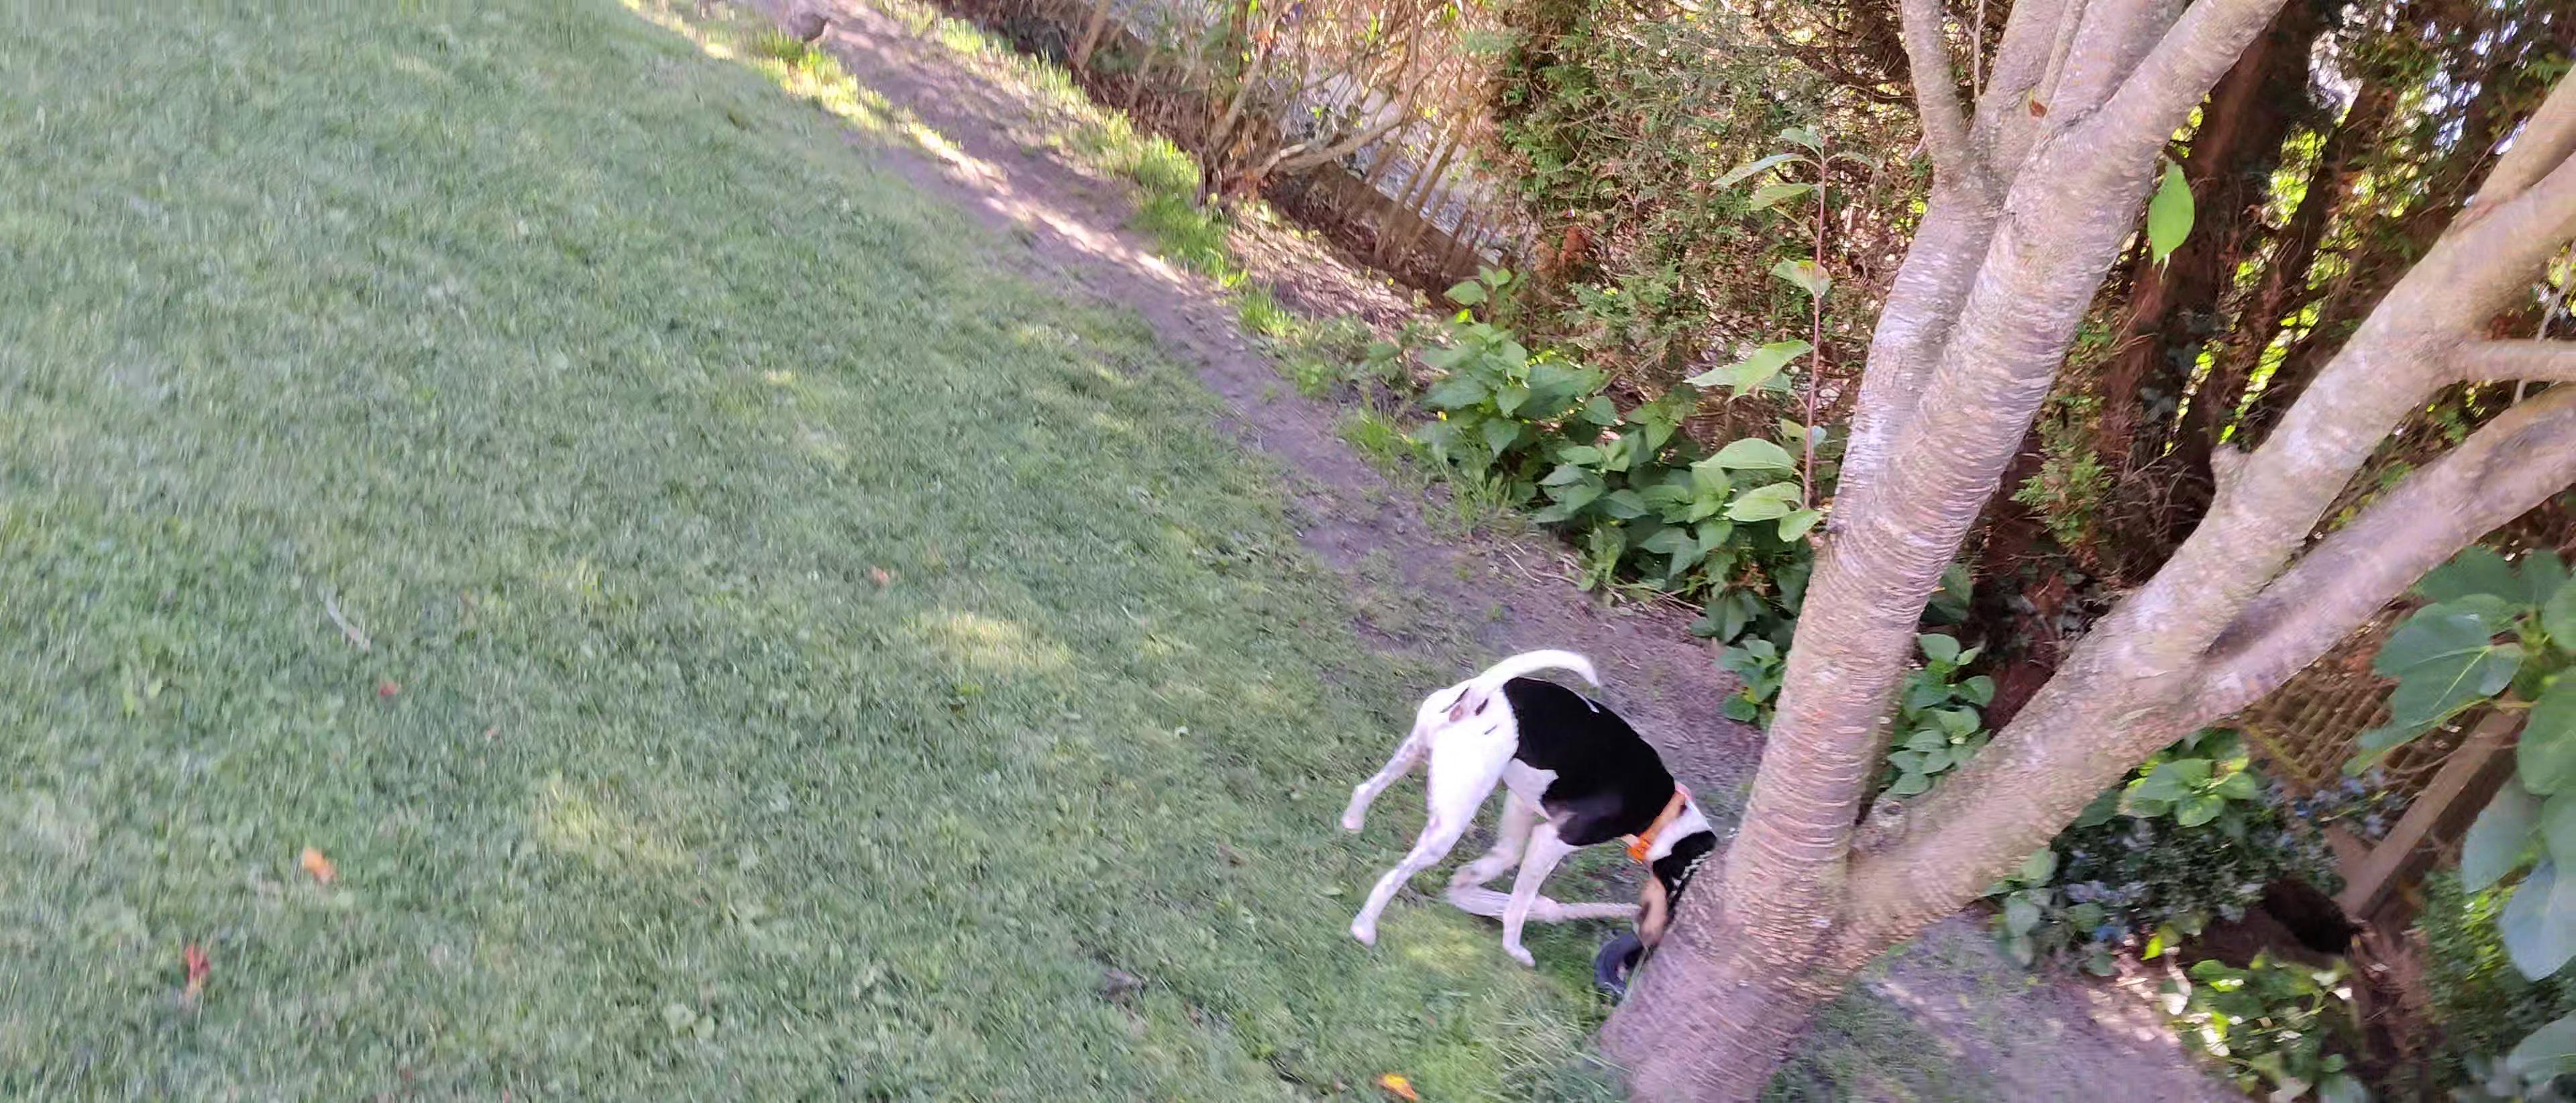Dog: (1336, 643, 1728, 970)
